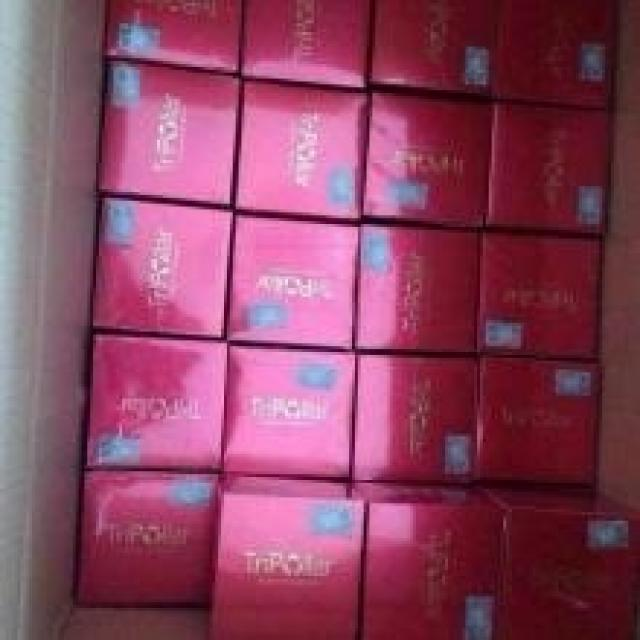box: (211, 474, 366, 637), (474, 482, 637, 637), (350, 478, 503, 637), (97, 61, 240, 208), (91, 200, 235, 338), (78, 469, 222, 606), (87, 339, 226, 471), (224, 215, 360, 348), (238, 81, 369, 218), (362, 91, 490, 227), (224, 346, 354, 478), (474, 350, 602, 484), (357, 221, 483, 354), (476, 231, 604, 359), (485, 106, 612, 235), (351, 355, 475, 486), (491, 7, 618, 109), (371, 3, 497, 102), (243, 1, 372, 91), (105, 1, 243, 78)
